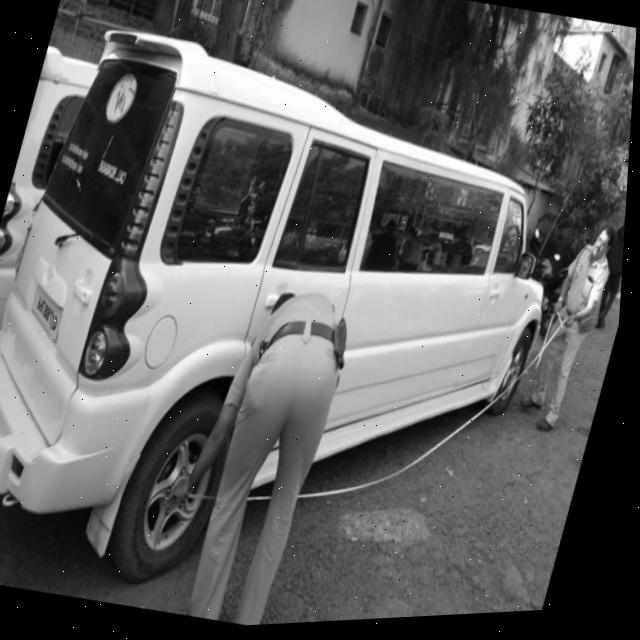car: (0, 0, 609, 609)
